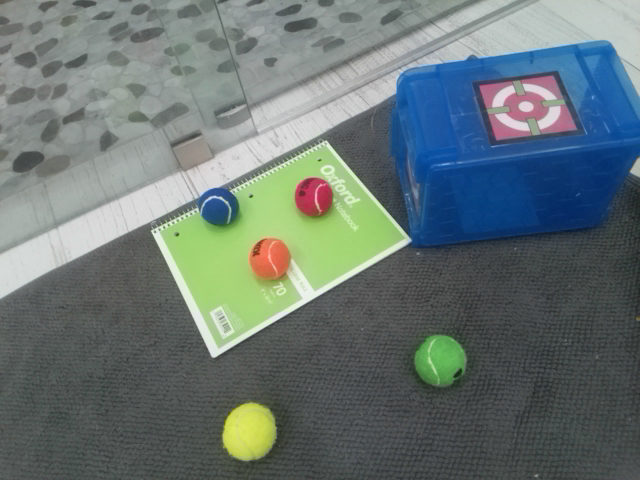blue-ball: (197, 186, 240, 226)
drop-bin: (472, 70, 586, 146)
green-ball: (413, 333, 468, 388)
orange-ball: (248, 236, 292, 279)
red-ball: (294, 176, 333, 217)
yellow-ball: (221, 401, 278, 462)
